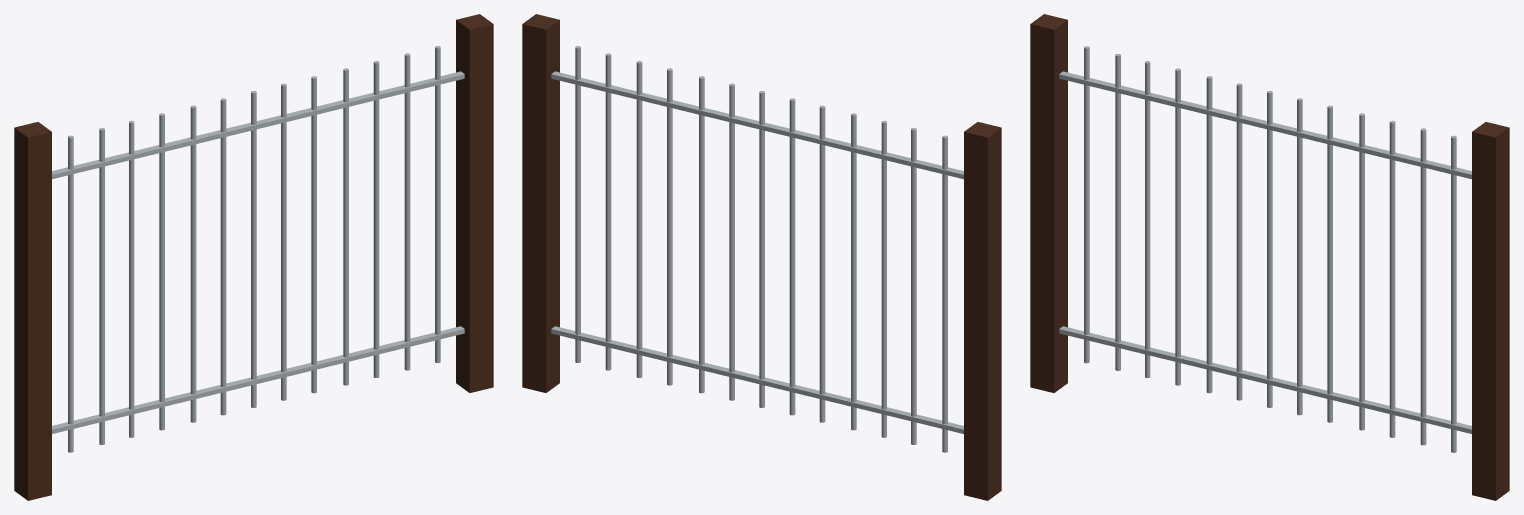
Rendered from MFenceB.fbx.
3 renders of one model, left to right at view 1: azimuth 30°, elevation 25°; view 2: azimuth 150°, elevation 25°; view 3: azimuth 330°, elevation 25°, orthographic.
Visible parts, largest first — view 1: Cube.002, Cylinder.013, Cube.001, Cube; view 2: Cube.002, Cylinder.013, Cube.001, Cube; view 3: Cube.002, Cylinder.013, Cube, Cube.001.
Part boxes in pixels (x1,y1,x2,y2): Cube.002: (14, 14, 493, 500); Cylinder.013: (68, 46, 440, 452); Cube.001: (52, 71, 464, 179); Cube: (52, 326, 464, 433); Cube.002: (522, 14, 1001, 500); Cylinder.013: (575, 46, 947, 452); Cube.001: (551, 71, 963, 179); Cube: (551, 326, 963, 433); Cube.002: (1030, 14, 1509, 500); Cylinder.013: (1084, 46, 1456, 452); Cube: (1059, 326, 1471, 433); Cube.001: (1059, 71, 1471, 179).
Size of the model in its own units: 152 by 114 by 7.81.
